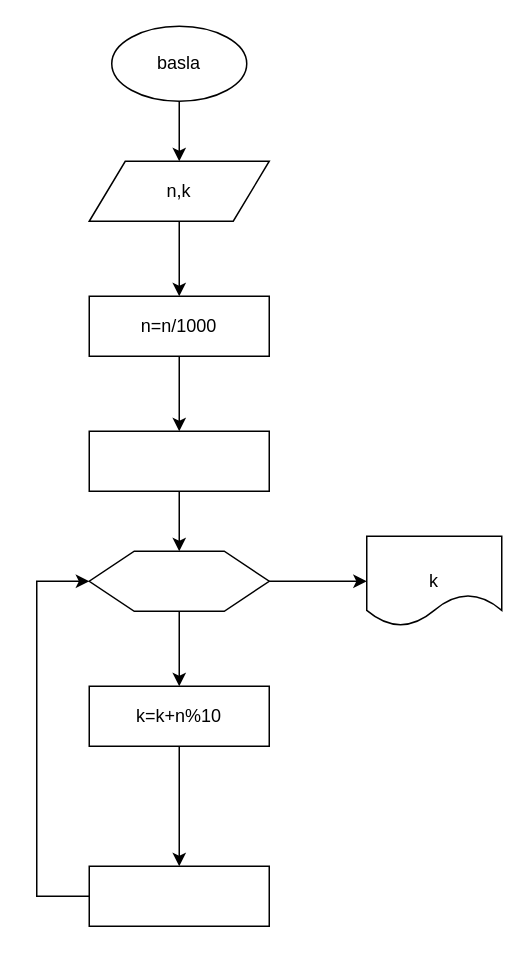
The diagram is 528 pixels wide and 953 high, and some of its shapes have lost their labels. Each missing label, with the centre of its shape:
"k=0" belongs at (178,460).
"n!=0" belongs at (178,580).
"n=n/10" belongs at (178,895).
